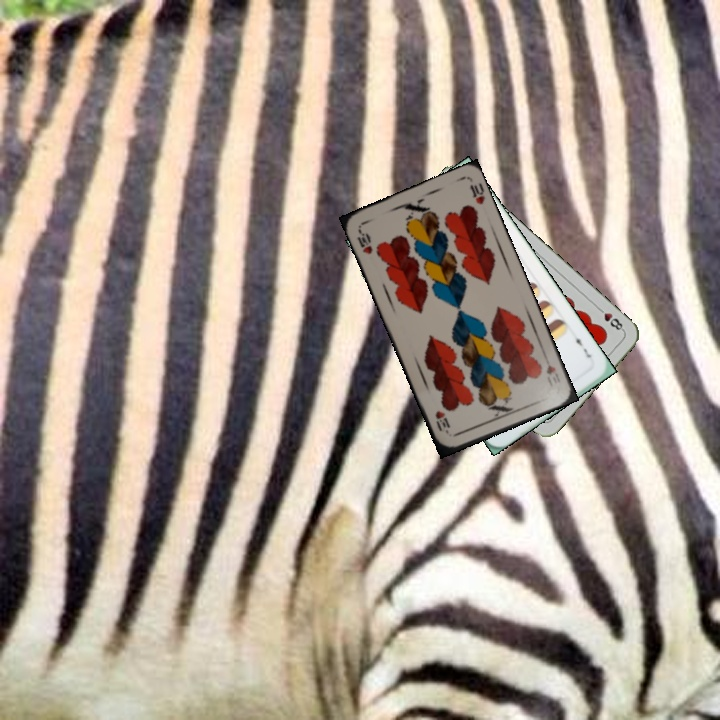E7: (569, 331, 594, 361)
H10: (353, 225, 375, 257), (542, 361, 563, 390)
H8: (593, 303, 627, 334)
